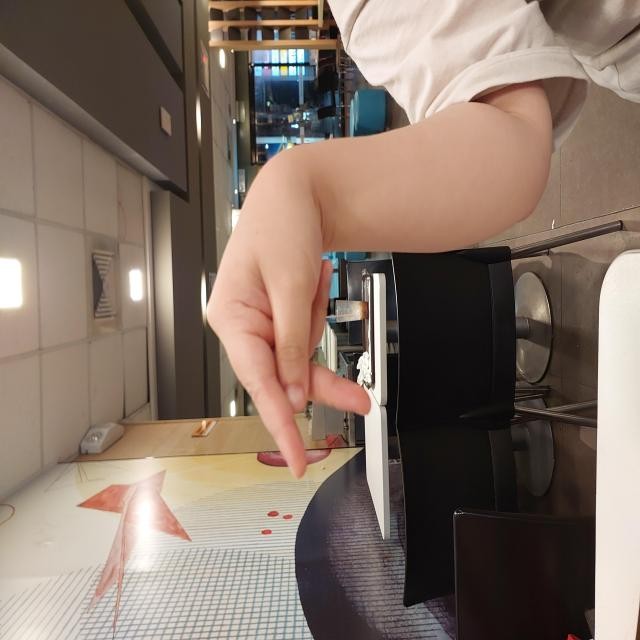P: (159, 205, 447, 373)
